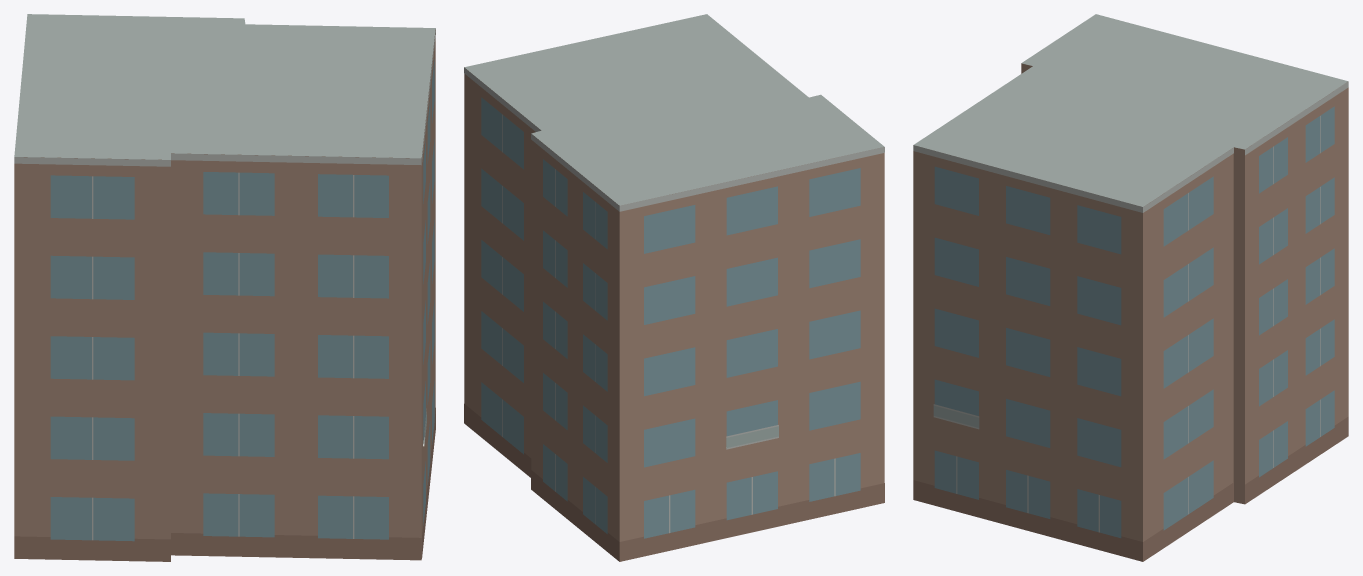
The model's file is survey-upis-32719036.glb.
3 views of the same model, side by side, from view 1: azimuth 30°, elevation 25°; view 2: azimuth 150°, elevation 25°; view 3: azimuth 270°, elevation 25° (orthographic). The views are drawn at different scales.
Parts seen in each view (by area): view 1: survey-upis-32719036.tmp; view 2: survey-upis-32719036.tmp; view 3: survey-upis-32719036.tmp.
Boxes of the visible parts, x1=… form: survey-upis-32719036.tmp: x1=14, y1=14, x2=435, y2=561; survey-upis-32719036.tmp: x1=464, y1=14, x2=884, y2=561; survey-upis-32719036.tmp: x1=913, y1=14, x2=1348, y2=561.
Size of the model in its own units: 16.81 by 14.4 by 16.02.
